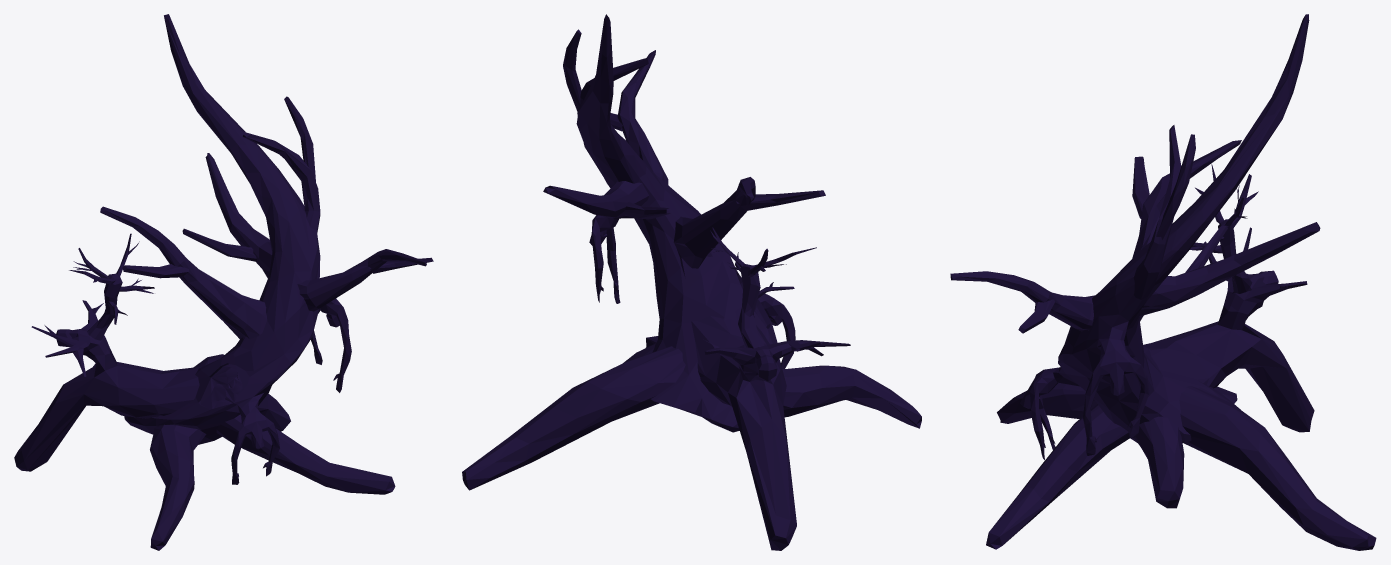
Rendered from tree4.fbx.
3 views of the same model, side by side, from view 1: azimuth 30°, elevation 25°; view 2: azimuth 150°, elevation 25°; view 3: azimuth 270°, elevation 25° (orthographic). The views are drawn at different scales.
Parts seen in each view (by area): view 1: Chimera1.003; view 2: Chimera1.003; view 3: Chimera1.003.
Part boxes in pixels (x1,y1,x2,y2): Chimera1.003: (14,14,433,550); Chimera1.003: (462,14,921,550); Chimera1.003: (950,14,1376,550).
Bounding box in the file's own units: 2446 × 3149 × 2428.
